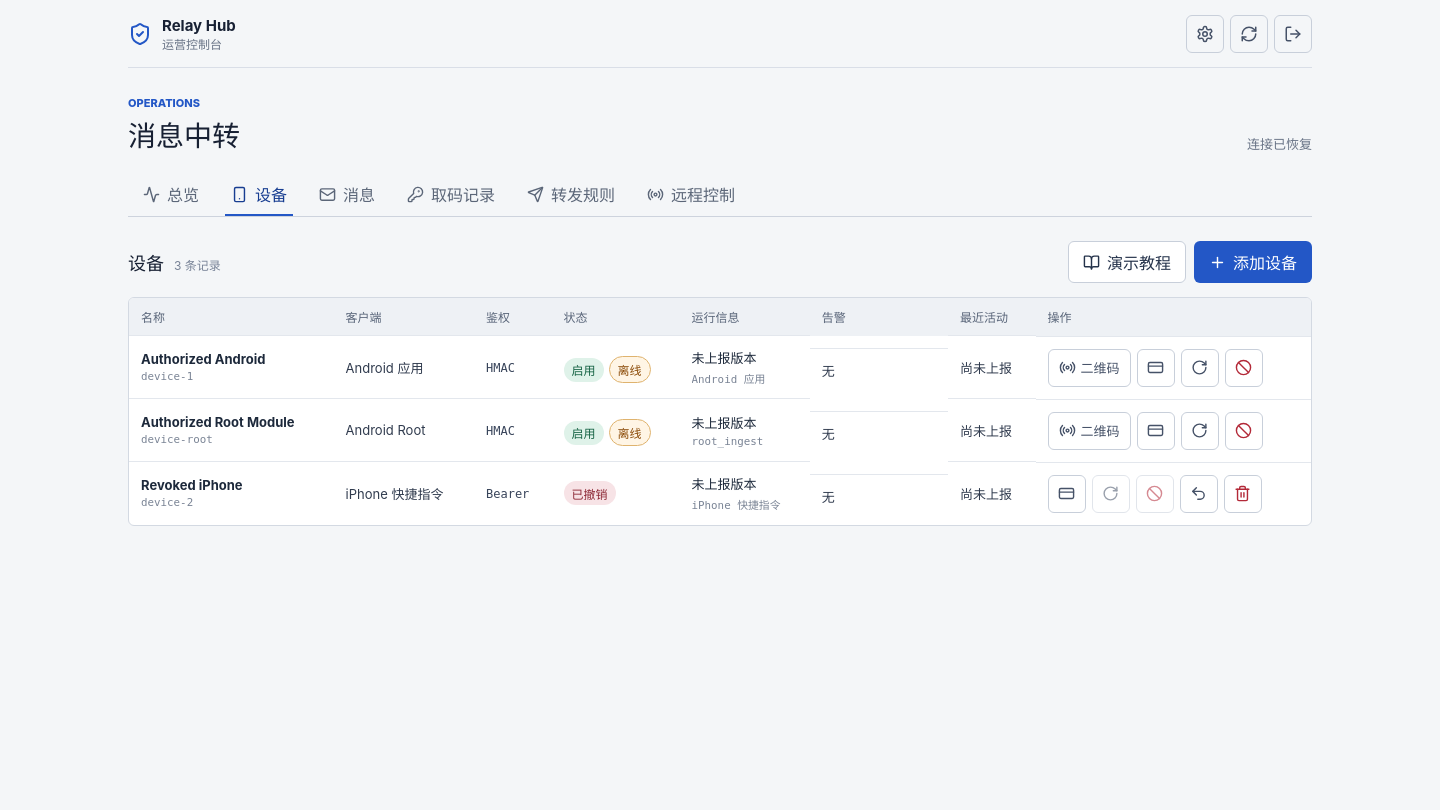
Test case: restores the persistent script token after a page reload
Expected: the text "Authorized Android" is shown, [141, 351, 265, 367]
Expected: the text "连接已恢复" is shown, [1247, 134, 1312, 154]
What coordinates should you click on to do the following:
click the tab "总览"
I would click on:
 (171, 194)
Its box is [128, 172, 214, 216].
(page scrolled)
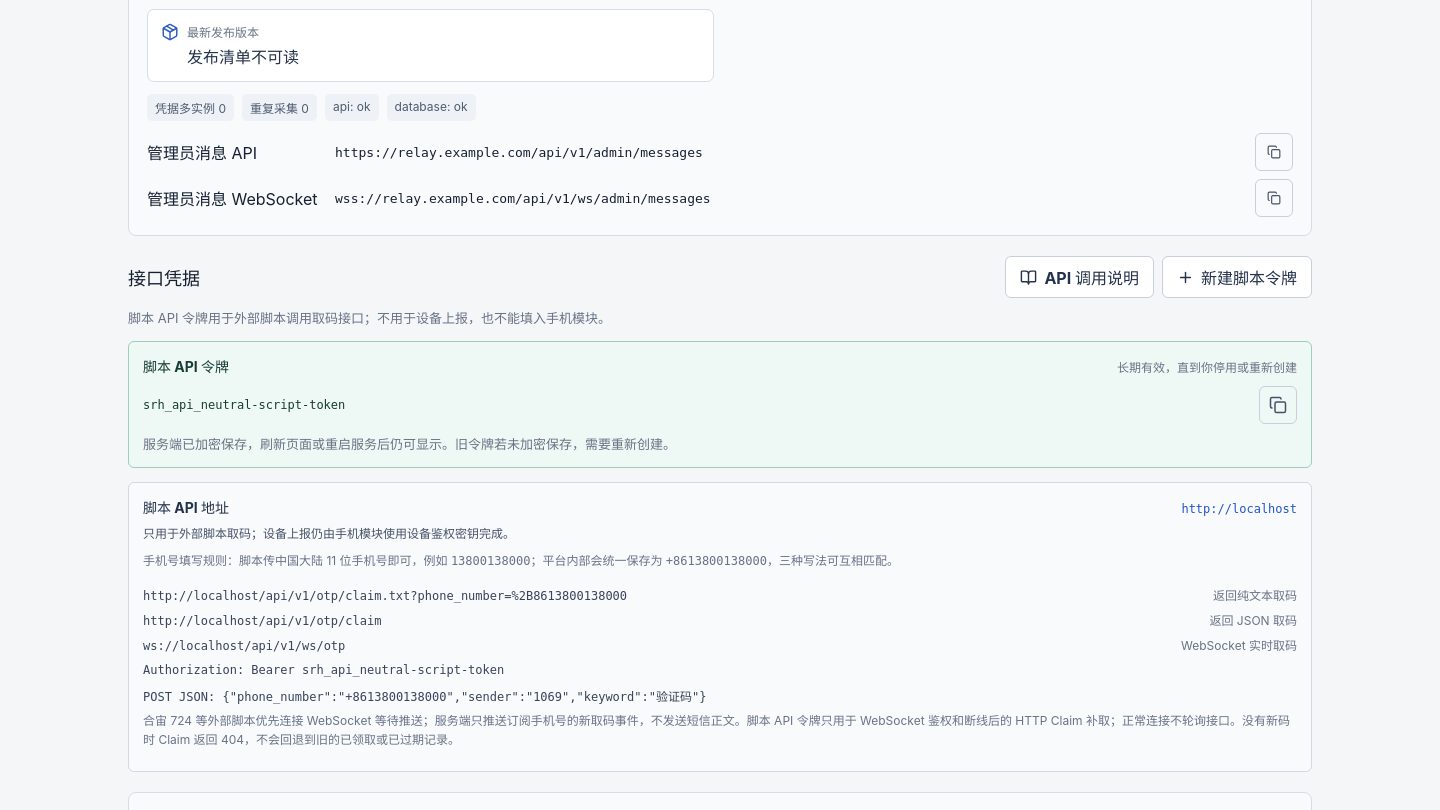
Result: the text "srh_api_neutral-script-token" is shown at [143, 398, 345, 412]
